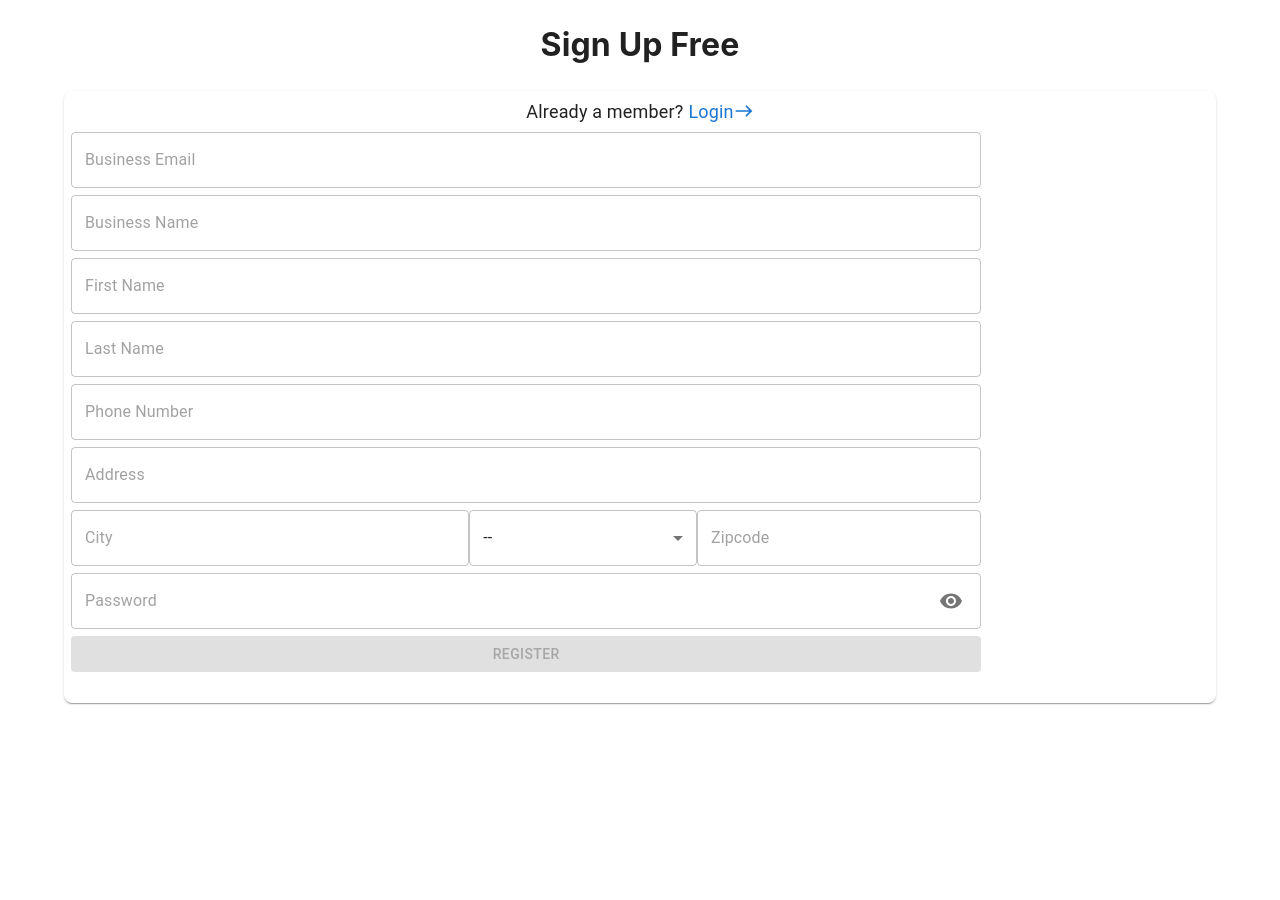
Sign Up Route Test › Should show password must contain a lower case letter message
This screenshot has width=1280, height=900.
Type "FOOBARONI$#%34" into the password field with placeholder "Password" at (501, 601), box [71,573,931,629]
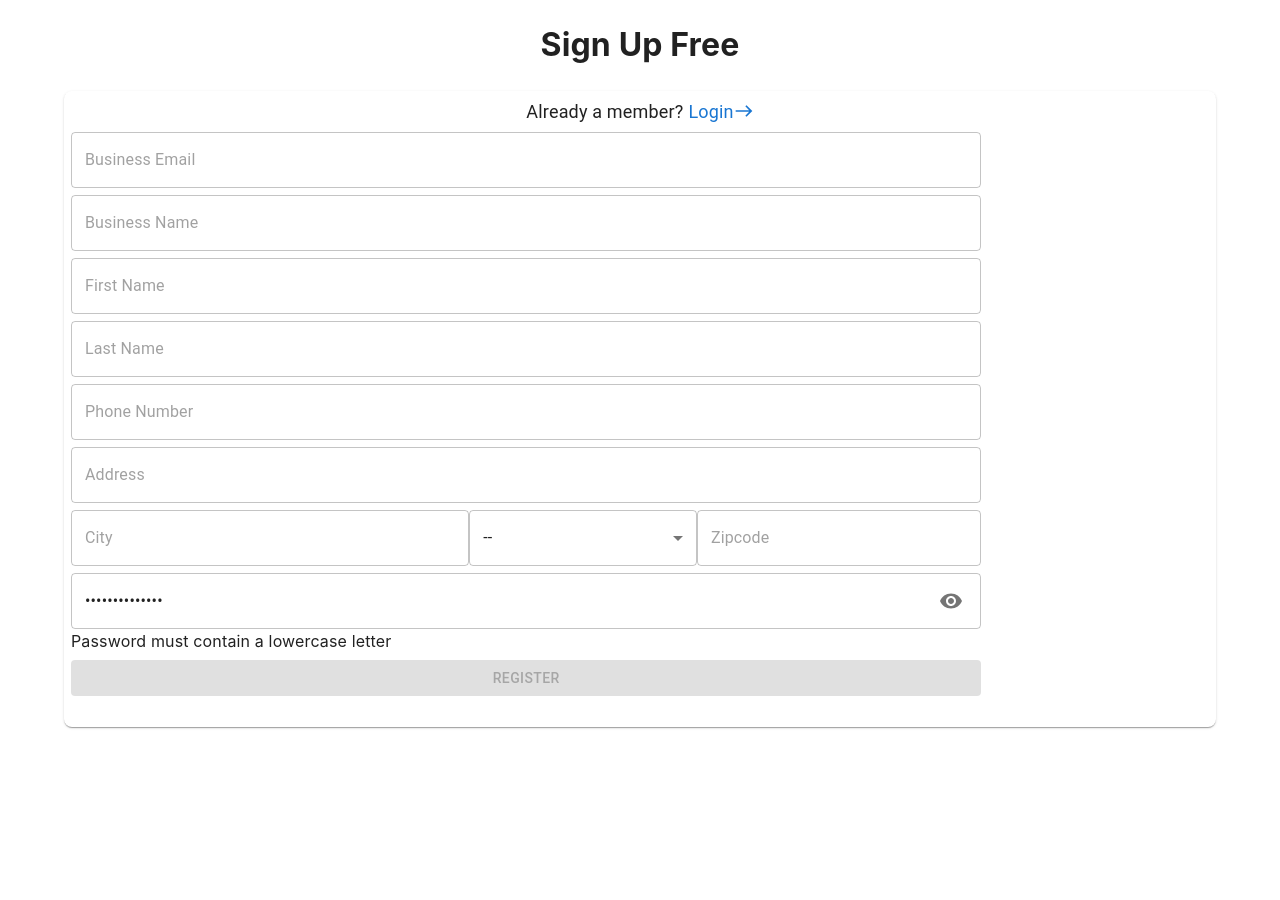
expect the text with test id "invalid-password-message" reads "Password must contain a lowercase letter": met, box [71,631,392,651]
